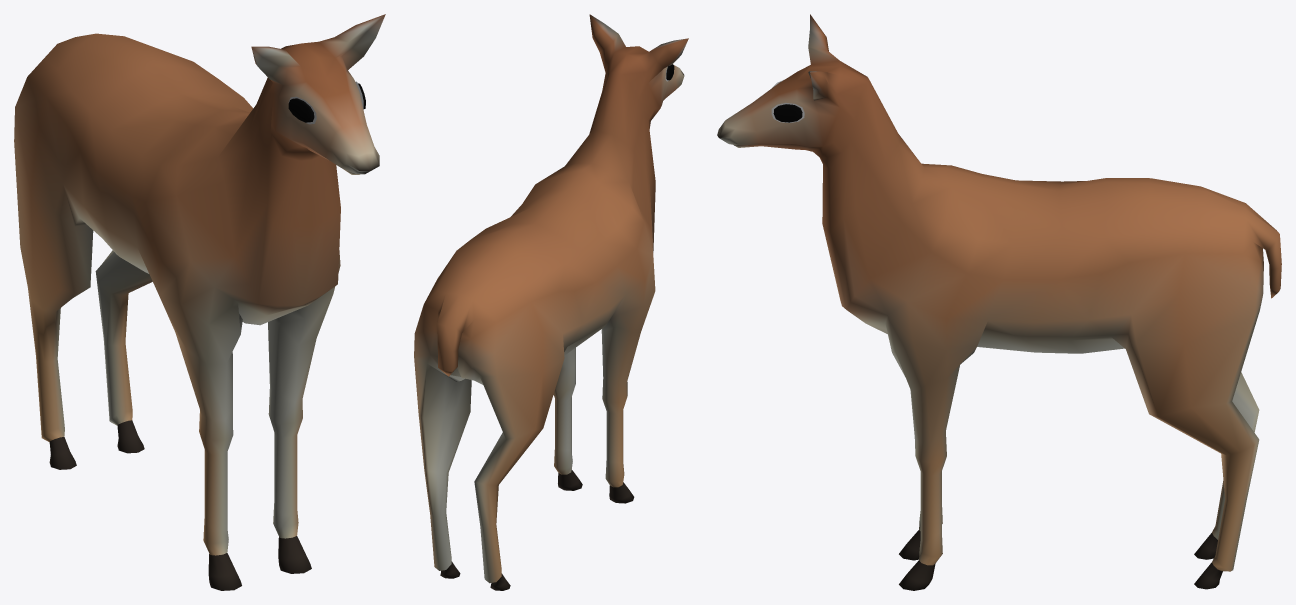
Rendered from animals-animals-blackbuck_v2.glb.
The picture shows the model from 3 angles, left to right: view 1: azimuth 30°, elevation 25°; view 2: azimuth 150°, elevation 25°; view 3: azimuth 270°, elevation 25°; orthographic projection. The views are drawn at different scales.
Parts seen in each view (by area): view 1: Blackbuck_v2; view 2: Blackbuck_v2; view 3: Blackbuck_v2.
Boxes of the visible parts, bbox=[...] form: Blackbuck_v2: bbox=[14, 14, 385, 590]; Blackbuck_v2: bbox=[414, 14, 688, 590]; Blackbuck_v2: bbox=[717, 14, 1281, 590].
Bounding box in the file's own units: 0.4959 × 1.61 × 1.57.
